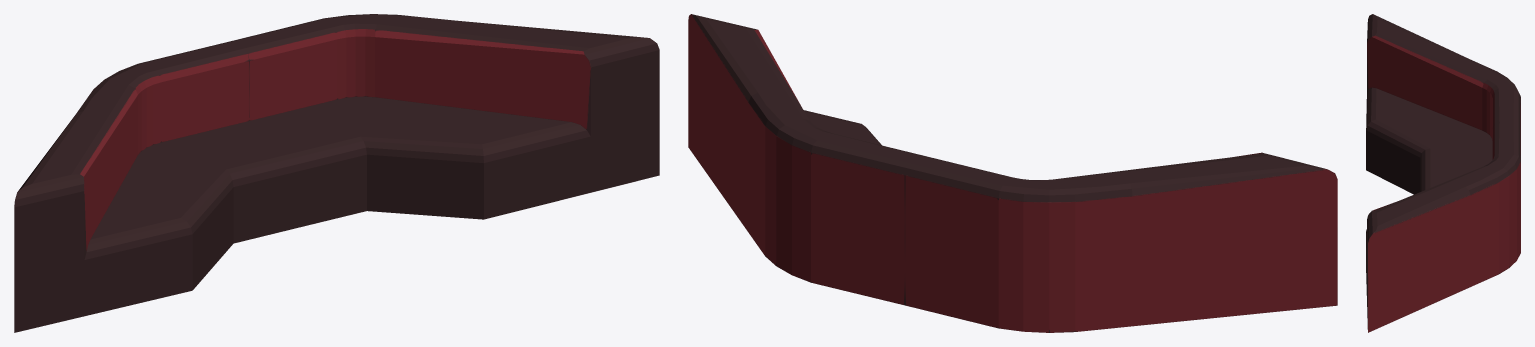
File: RedChair.fbx
3 renders of one model, left to right at view 1: azimuth 30°, elevation 25°; view 2: azimuth 150°, elevation 25°; view 3: azimuth 270°, elevation 25°, orthographic. The views are drawn at different scales.
Parts seen in each view (by area): view 1: RedChair; view 2: RedChair; view 3: RedChair.
Boxes of the visible parts, x1,y1,x2,y2 form: RedChair: (14, 14, 659, 332); RedChair: (688, 14, 1337, 332); RedChair: (1366, 14, 1520, 332).
Bounding box in the file's own units: 2934 × 856 × 600.
1 material, 1 textured.
